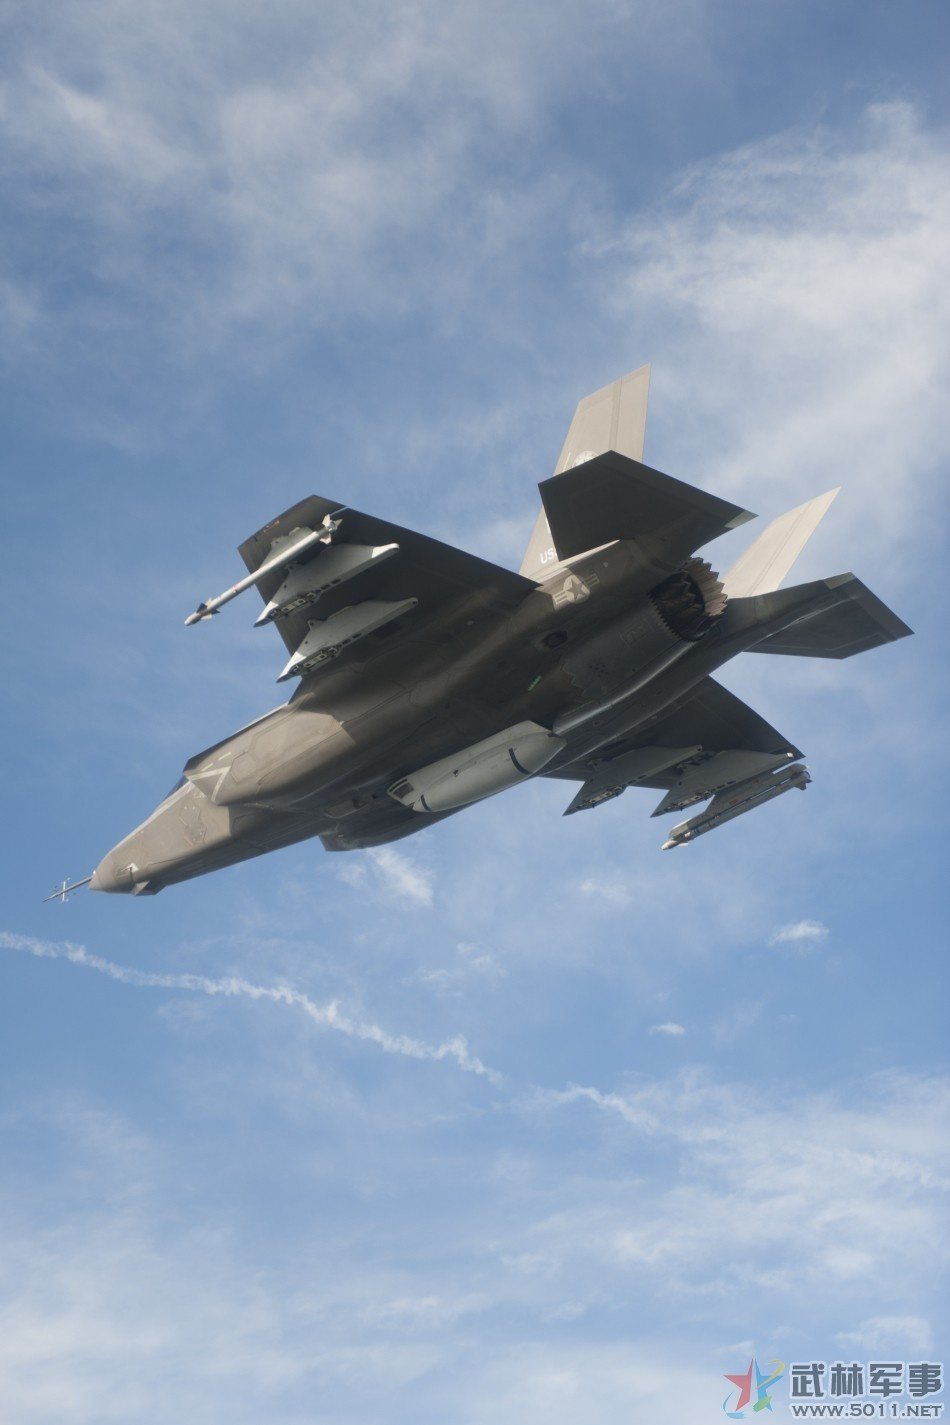airplane: (31, 362, 915, 929)
